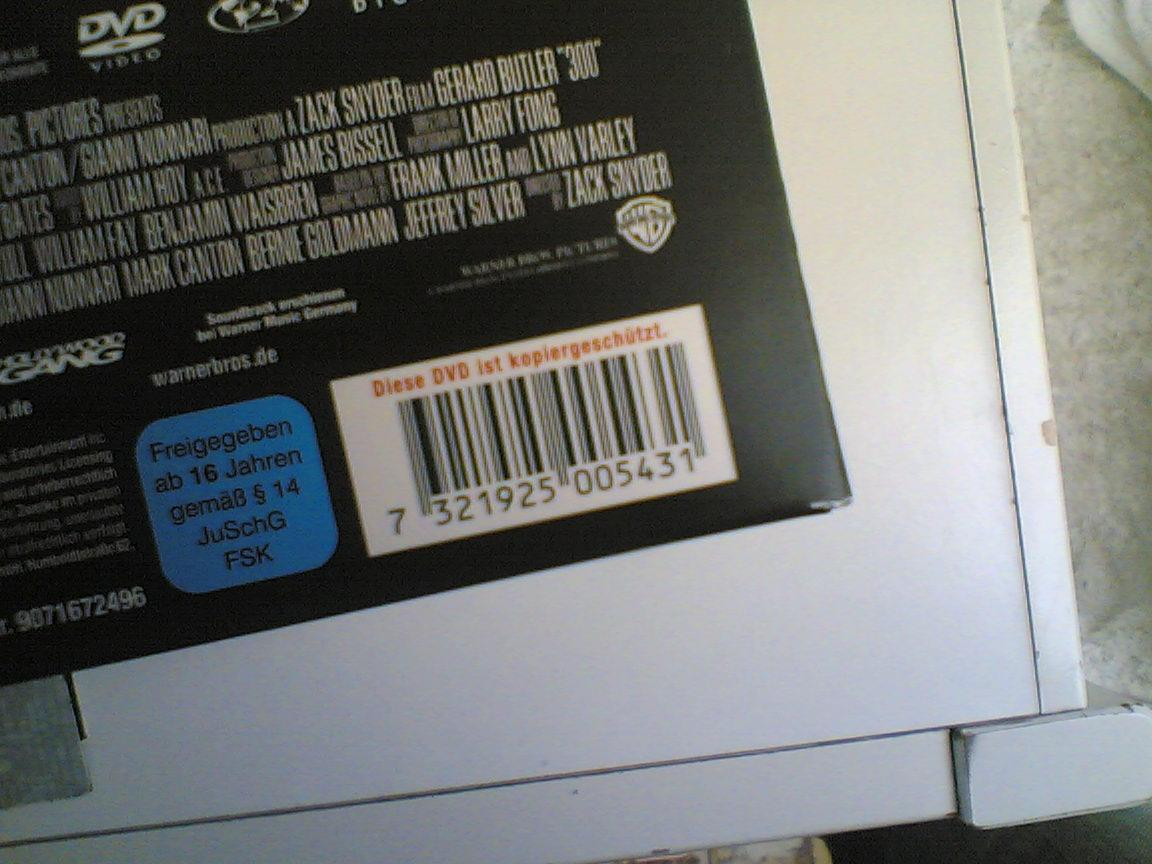Barcode: (329, 303, 742, 557)
